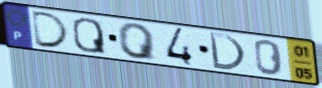0: (253, 39, 284, 77)
4: (163, 26, 197, 68)
D: (207, 31, 248, 73), (30, 9, 72, 50)
Q: (116, 23, 159, 62), (71, 17, 108, 56)
